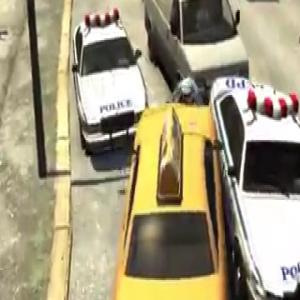negligible: (104, 58, 300, 300)
